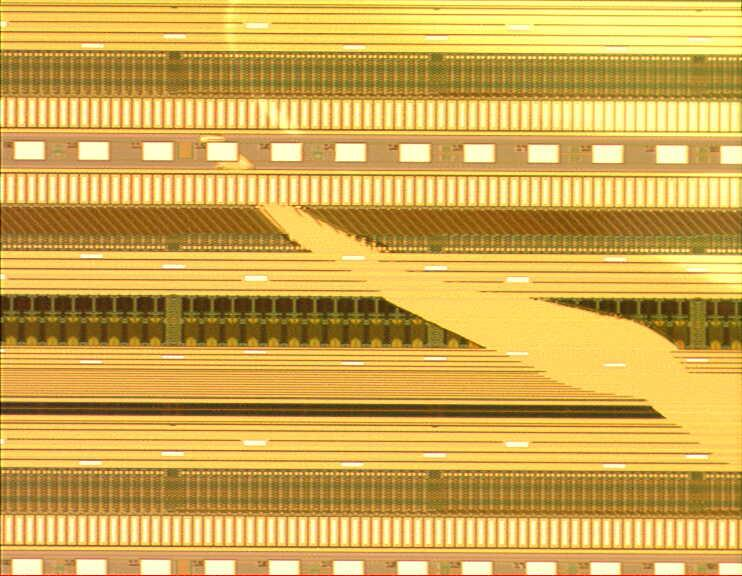BLOCK ETCH: (200, 2, 742, 478)
